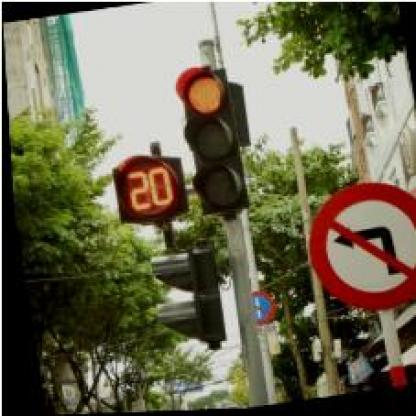red: (167, 61, 251, 218)
